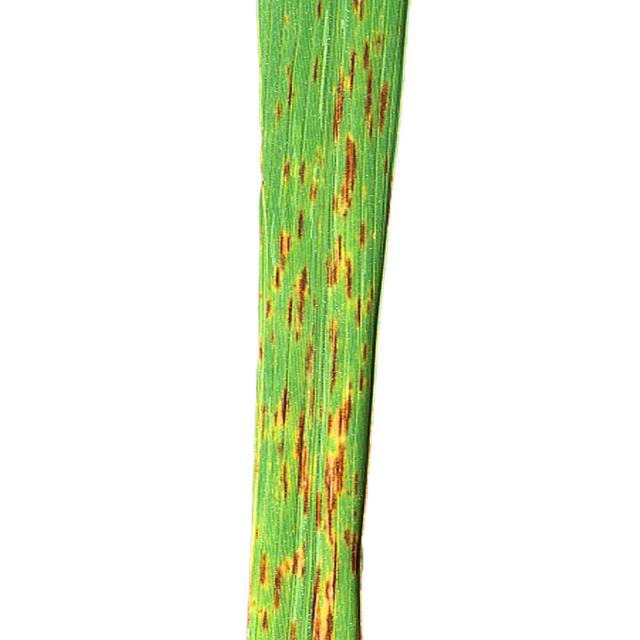Narrow brown: (210, 0, 408, 640)
